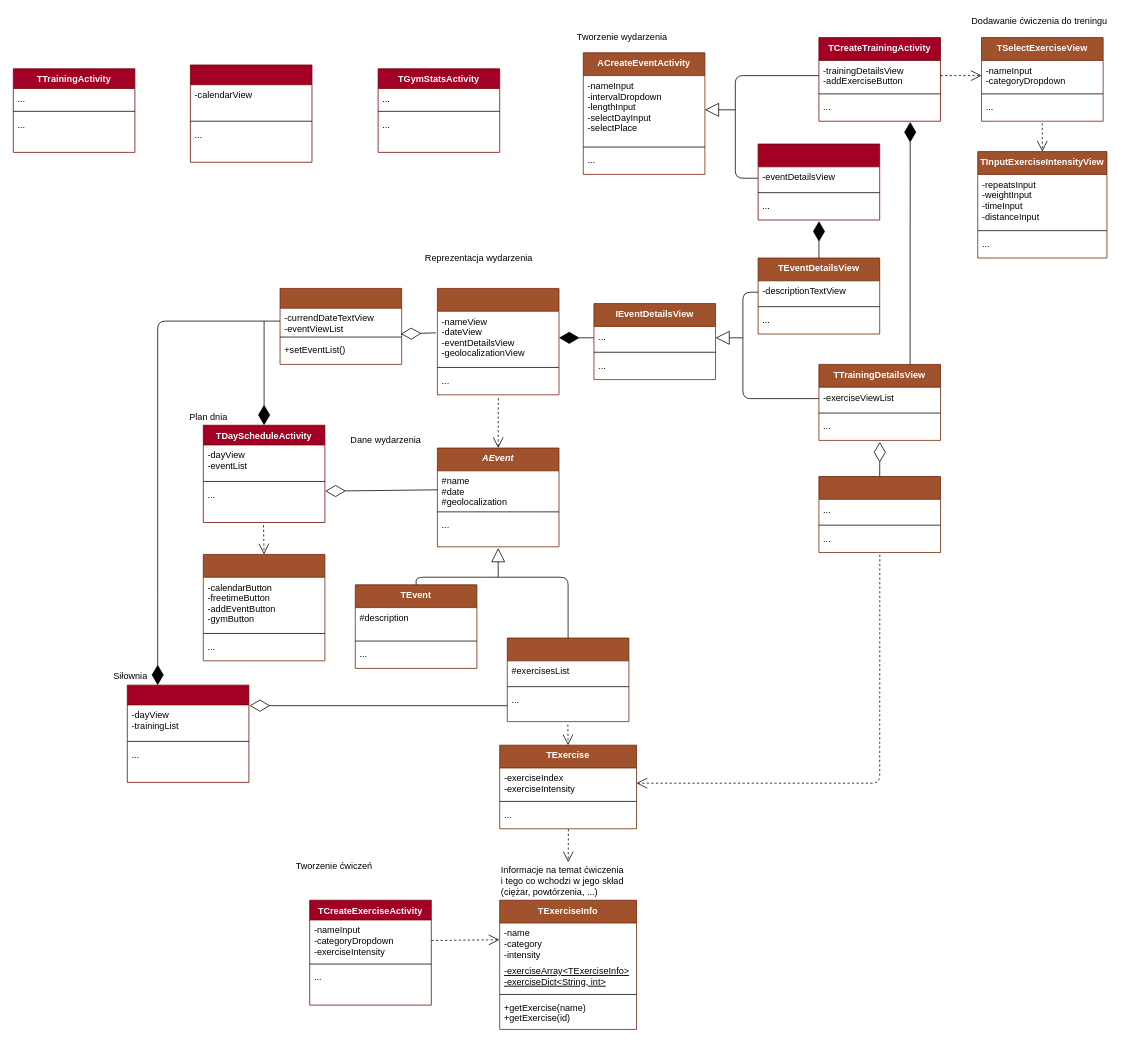
The diagram is 1129 pixels wide and 1058 high, and some of its shapes have lost their labels. The shapes that lost their labels are listed below. From the top down, each one's box as (x1, y1, x2, y2) in pixels, then its label:
(190, 64, 312, 162): TCalendarActivity
(757, 143, 880, 220): TCreateEventActivity
(279, 288, 402, 364): TDayView
(437, 288, 559, 395): TEventView
(818, 476, 940, 553): TExerciseView
(203, 554, 325, 661): TDaySheduleMenuView
(507, 637, 629, 722): TTraining
(127, 684, 249, 782): TGymActivity
